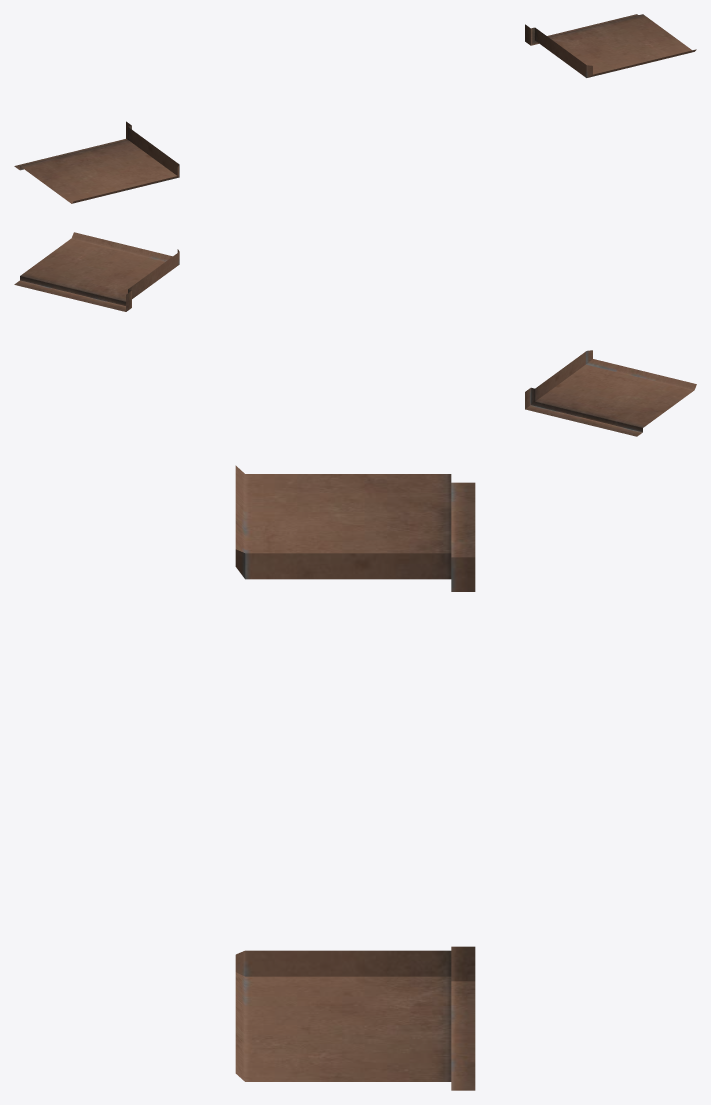
Rendered from dado_door_centered_large_01.gltf.
The picture shows the model from 3 angles, top to bottom: view 1: azimuth 30°, elevation 25°; view 2: azimuth 150°, elevation 25°; view 3: azimuth 270°, elevation 25°; orthographic projection. The views are drawn at different scales.
Visible parts, largest first — view 1: dado_door_centered_large_01; view 2: dado_door_centered_large_01; view 3: dado_door_centered_large_01.
Part boxes in pixels (left/top/right/bottom): dado_door_centered_large_01: left=14, top=14, right=696, bottom=203; dado_door_centered_large_01: left=14, top=232, right=696, bottom=436; dado_door_centered_large_01: left=235, top=465, right=475, bottom=1090.
Bounding box in the file's own units: 3 × 0.08 × 0.5.
Materials: 1 (1 with a texture image).
